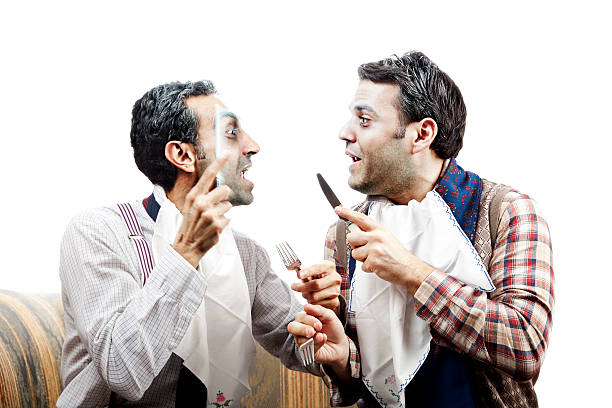knife: (317, 173, 364, 233)
